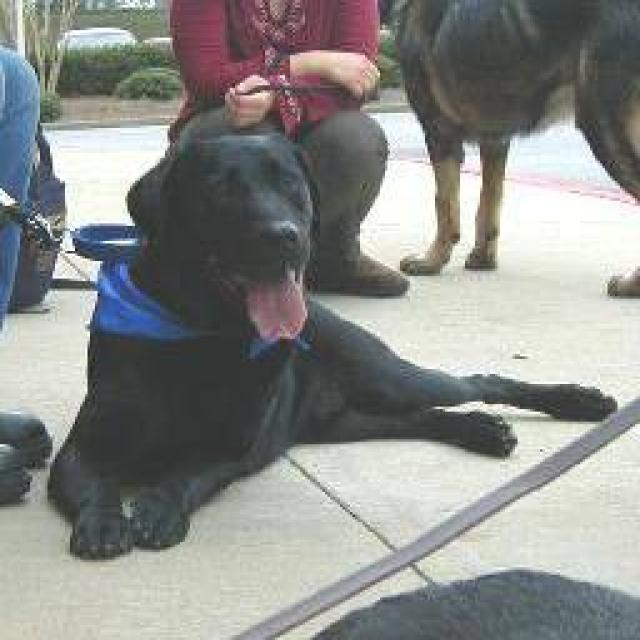dog: (42, 100, 618, 560)
